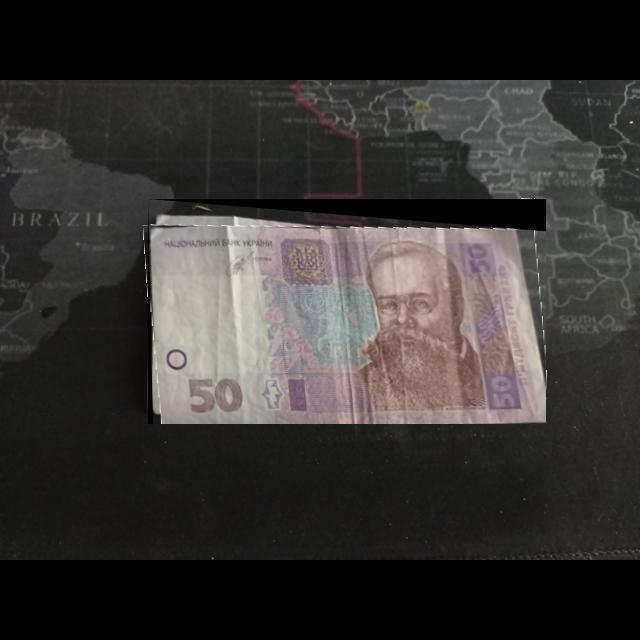50uah: (149, 223, 547, 425)
